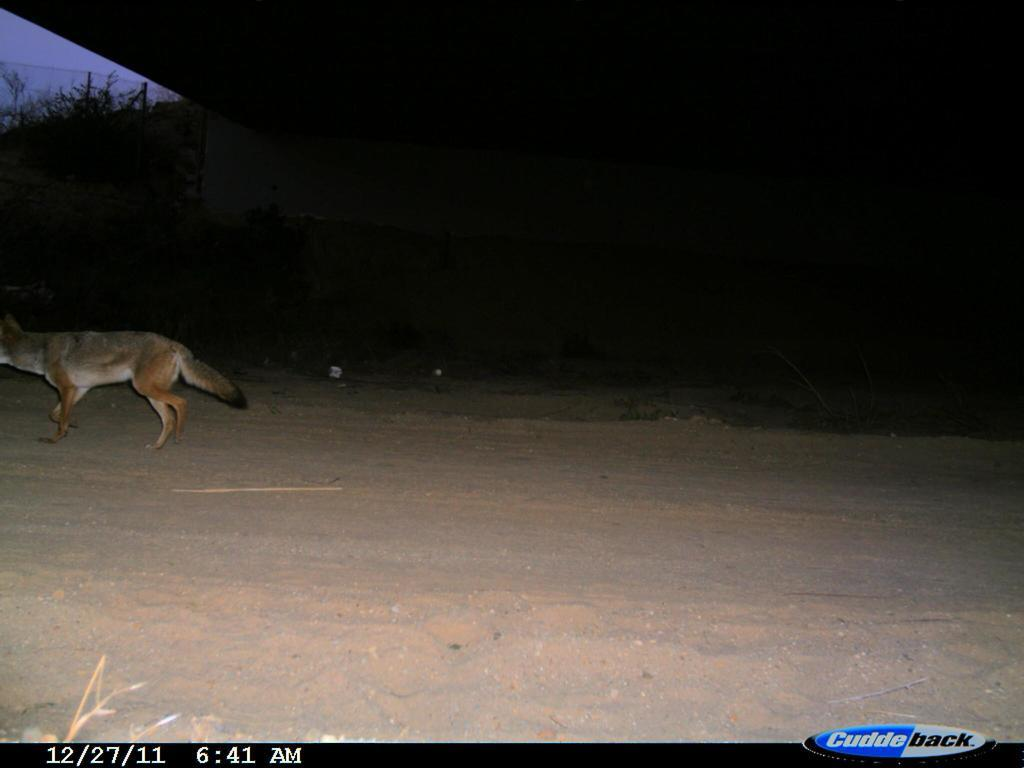coyote: (2, 306, 254, 454)
